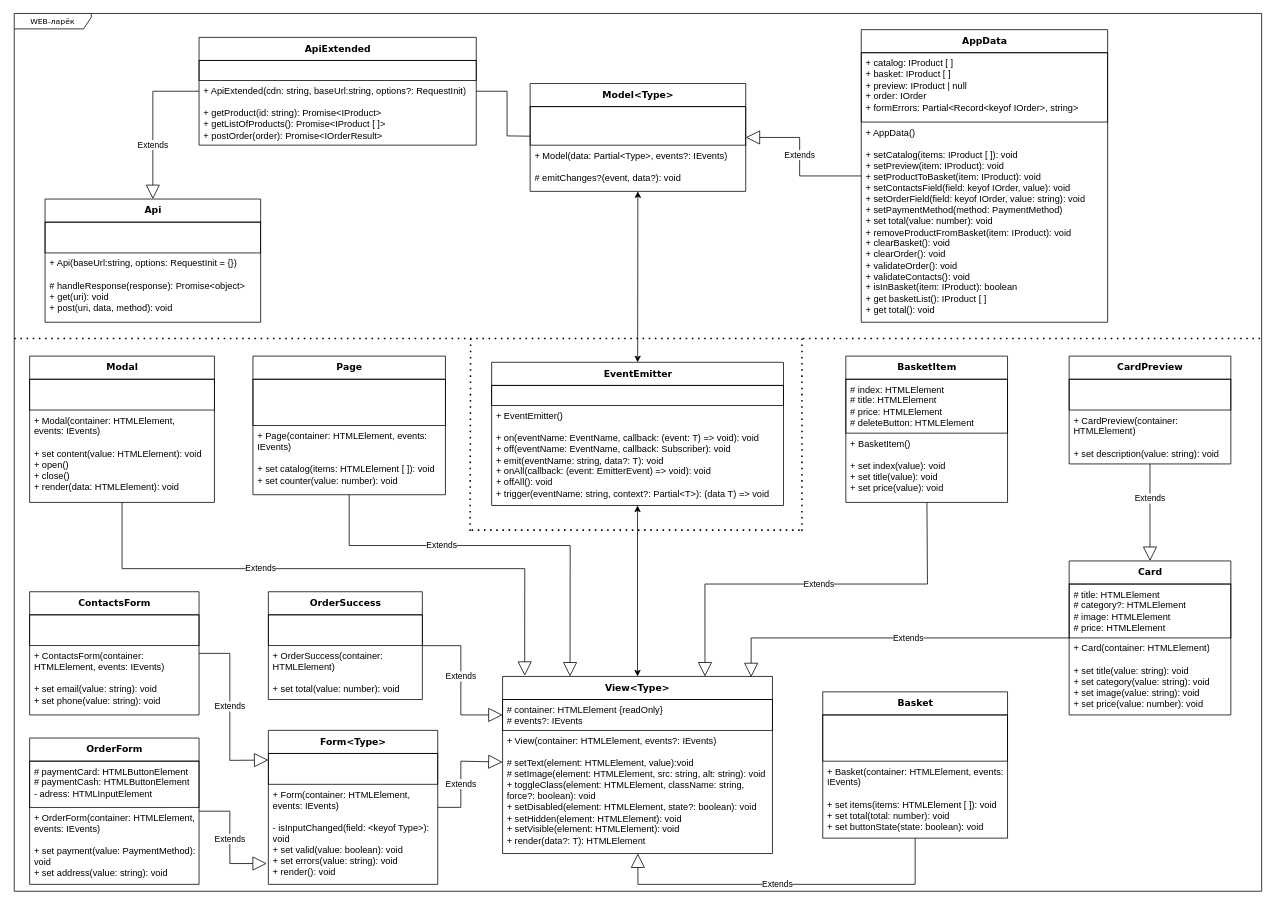
Image size: 1279x912. Some labels were removed from this diagram. The shapes that lost their labels are listed below. From the top down, each one's centre as x and y in pixels, then its label:
At [337,70]: "+ cdn: string {readOnly}".
At [637,125]: "+ data: Partial<Type> # events?: IEvents".
At [152,237]: "+ baseUrl: string {readOnly} # options: RequestUnit".
At [121,394]: "# content: HTMLElement # closeButton: HTMLButtonElement".
At [348,401]: "# catalog: HTMLElement # counter: HTMLElement # basket: HTMLElement".
At [637,395]: "- events: Map<EventName, Subscriber [ ]>".
At [1149,394]: "# description: HTMLElement # button: HTMLButtonElement".
At [114,630]: "- email: HTMLInputElement - phone: HTMLInputElement".
At [345,630]: "- total: HTMLElement - button: HTMLButtonElement".
At [915,737]: "# list: HTMLElement # total: HTMLElement # button: HTMLElement".
At [353,768]: "# submit: HTMLButtonElement # errors: HTMLElement".
